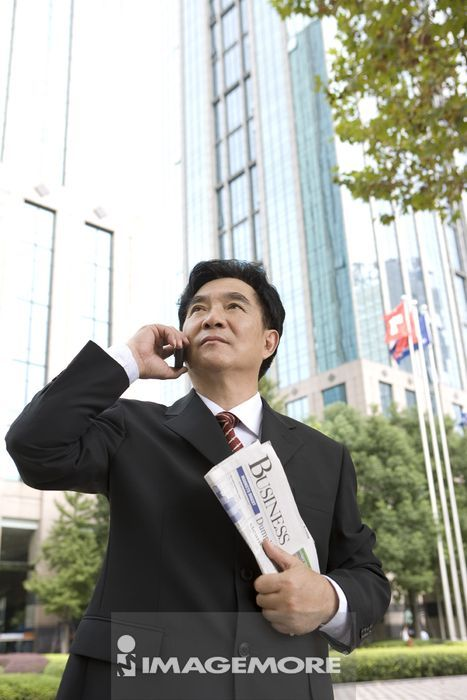talk: (122, 291, 253, 382)
